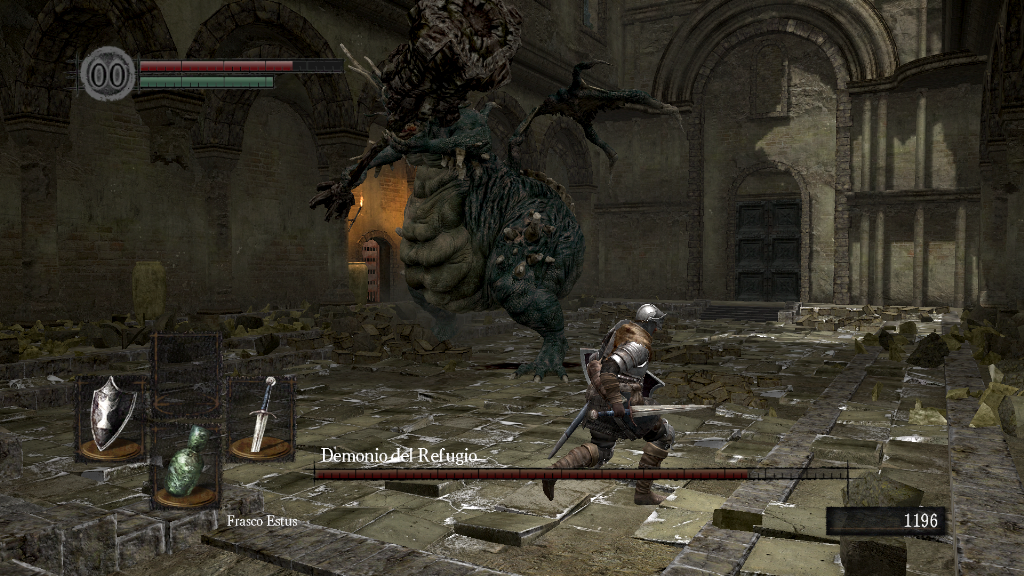asylumDemon: (310, 1, 579, 387)
bossHP: (314, 469, 847, 479)
health: (138, 58, 343, 71)
humanity: (80, 45, 136, 102)
player: (543, 304, 716, 508)
souls: (825, 506, 945, 536)
stamina: (138, 74, 274, 88)
